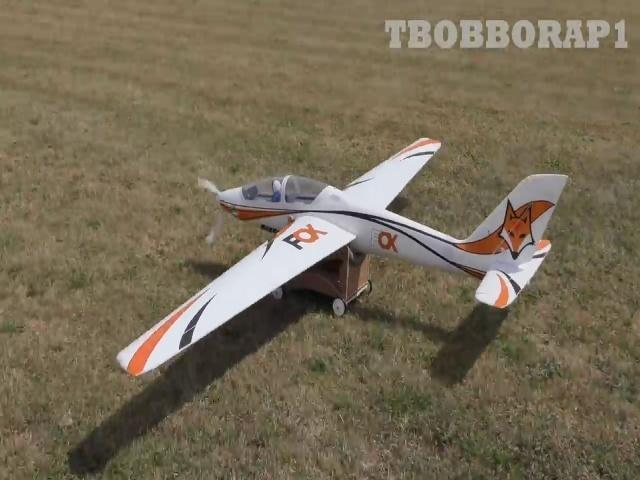Airplane: (116, 137, 568, 377)
